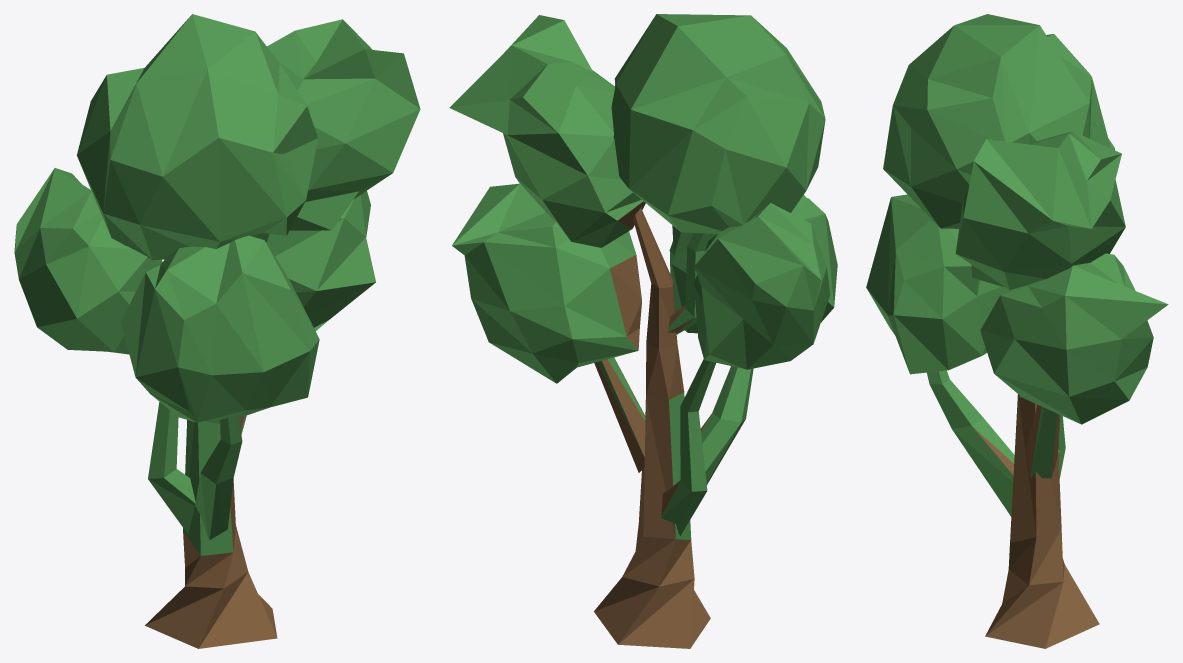
File: tree3d-125.glb
3 renders of one model, left to right at view 1: azimuth 30°, elevation 25°; view 2: azimuth 150°, elevation 25°; view 3: azimuth 270°, elevation 25°, orthographic. The views are drawn at different scales.
Visible parts, largest first — view 1: tree3d-125; view 2: tree3d-125; view 3: tree3d-125.
Part boxes in pixels (x1,y1,x2,y2): tree3d-125: (14,14,420,648); tree3d-125: (449,14,837,648); tree3d-125: (866,14,1168,648).
Bounding box in the file's own units: 0.6252 × 1 × 0.4687.
